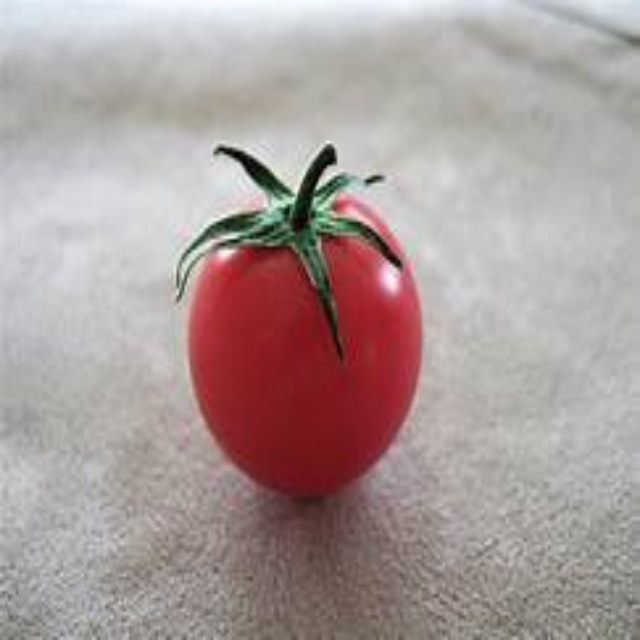tomato: (174, 139, 444, 505)
